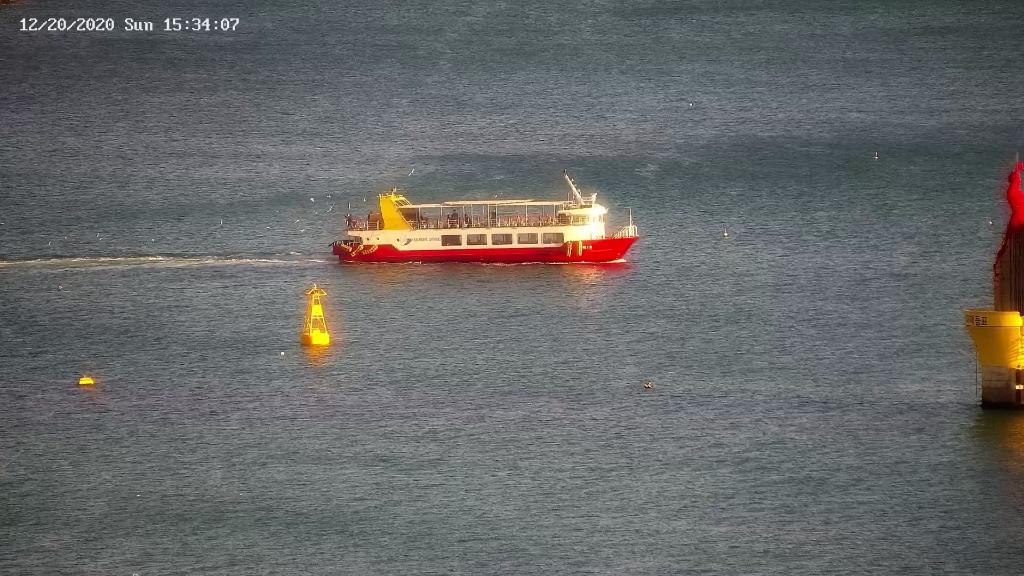PassengerShip: (322, 176, 650, 268)
